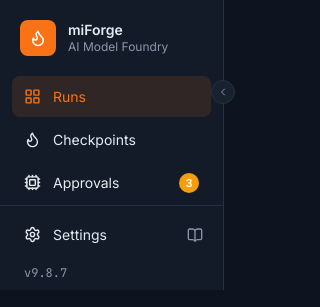
Test case: [Sidebar] collapses to an icon rail, as miStudio and miLLM do (operator, 2026-10-31) › should keep the footer to Settings alone when collapsed
The width and height of the screenshot is (320, 307).
Click the button with test id "sidebar-toggle".
click(223, 92)  # box [211,80,235,104]
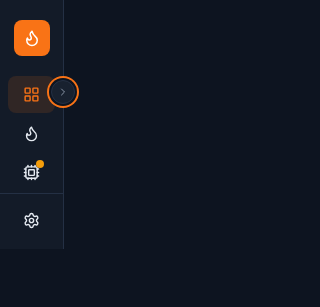
expect the link with test id "sidebar-manual-link" is gone: met
expect the text with test id "sidebar-version" is gone: met
expect the text "AI Model Foundry" is gone: met
